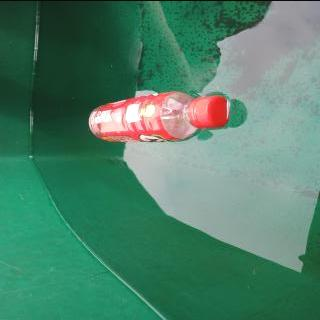bottle: (88, 90, 232, 142)
